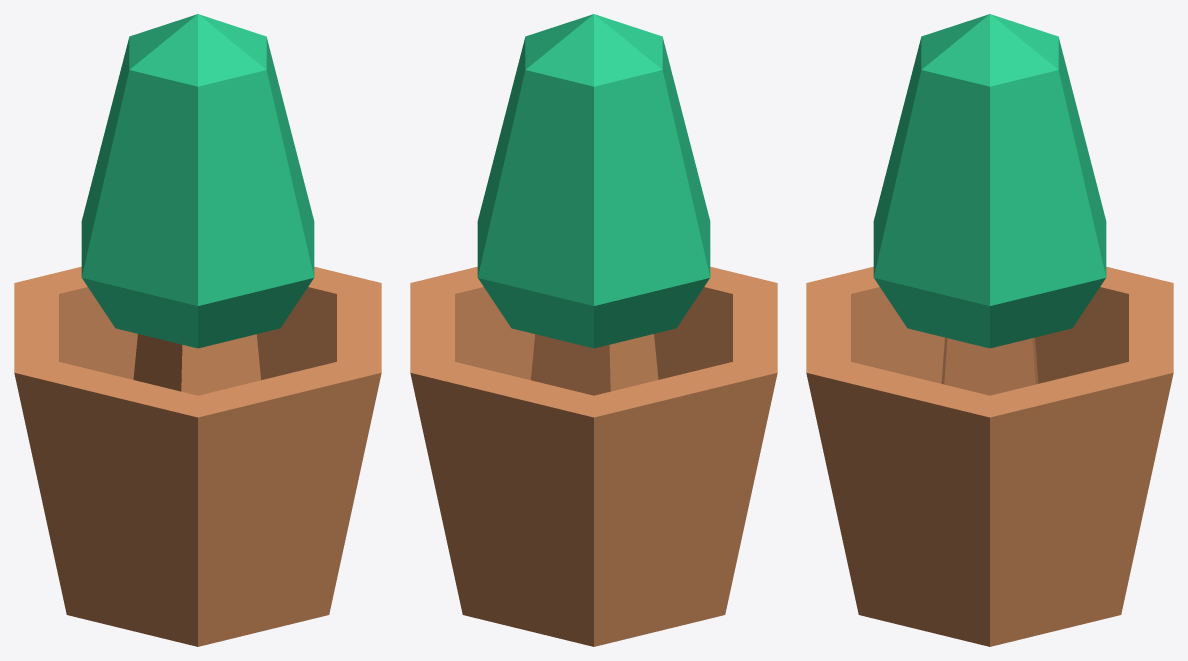
Rendered from plantSmall3.obj.
The picture shows the model from 3 angles, left to right: view 1: azimuth 30°, elevation 25°; view 2: azimuth 150°, elevation 25°; view 3: azimuth 270°, elevation 25°; orthographic projection.
Size of the model in its own units: 0.098 by 0.145 by 0.0849.
